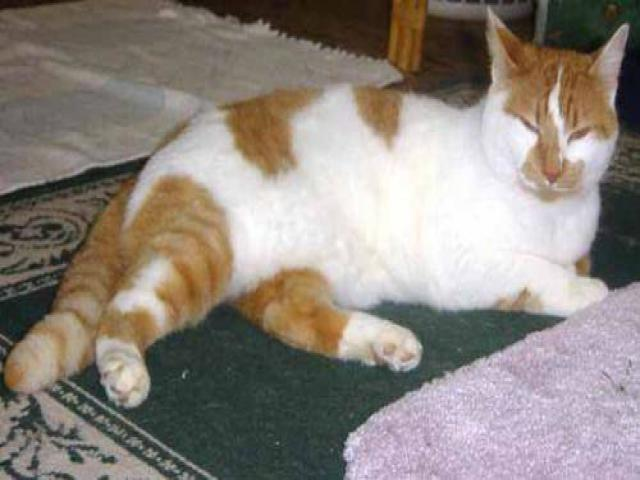cat: (6, 21, 627, 412)
